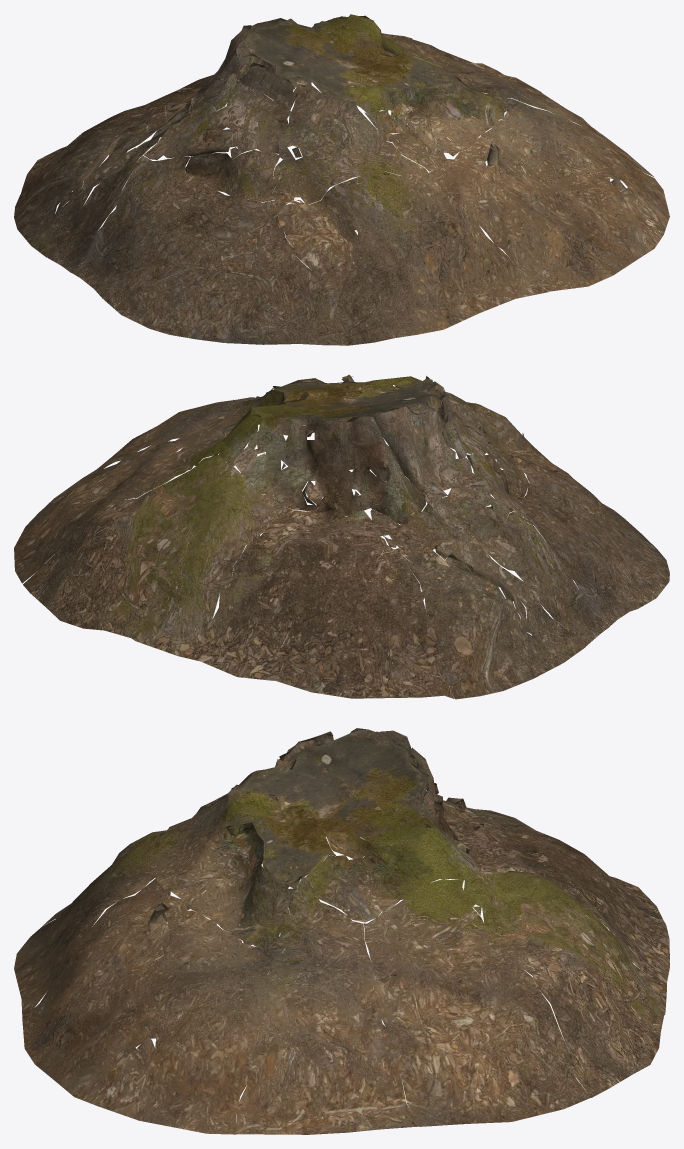
File: stump_b.glb
The picture shows the model from 3 angles, top to bottom: view 1: azimuth 30°, elevation 25°; view 2: azimuth 150°, elevation 25°; view 3: azimuth 270°, elevation 25°; orthographic projection. The views are drawn at different scales.
Parts seen in each view (by area): view 1: stump_b; view 2: stump_b; view 3: stump_b.
Boxes of the visible parts, <box> form: stump_b: <box>14,14,669,345</box>; stump_b: <box>14,374,669,699</box>; stump_b: <box>14,728,669,1134</box>.
Bounding box in the file's own units: 1.52 × 0.5201 × 1.39.
Materials: 1 (1 with a texture image).
